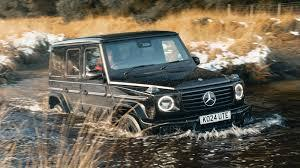mercedes: (202, 91, 216, 107)
